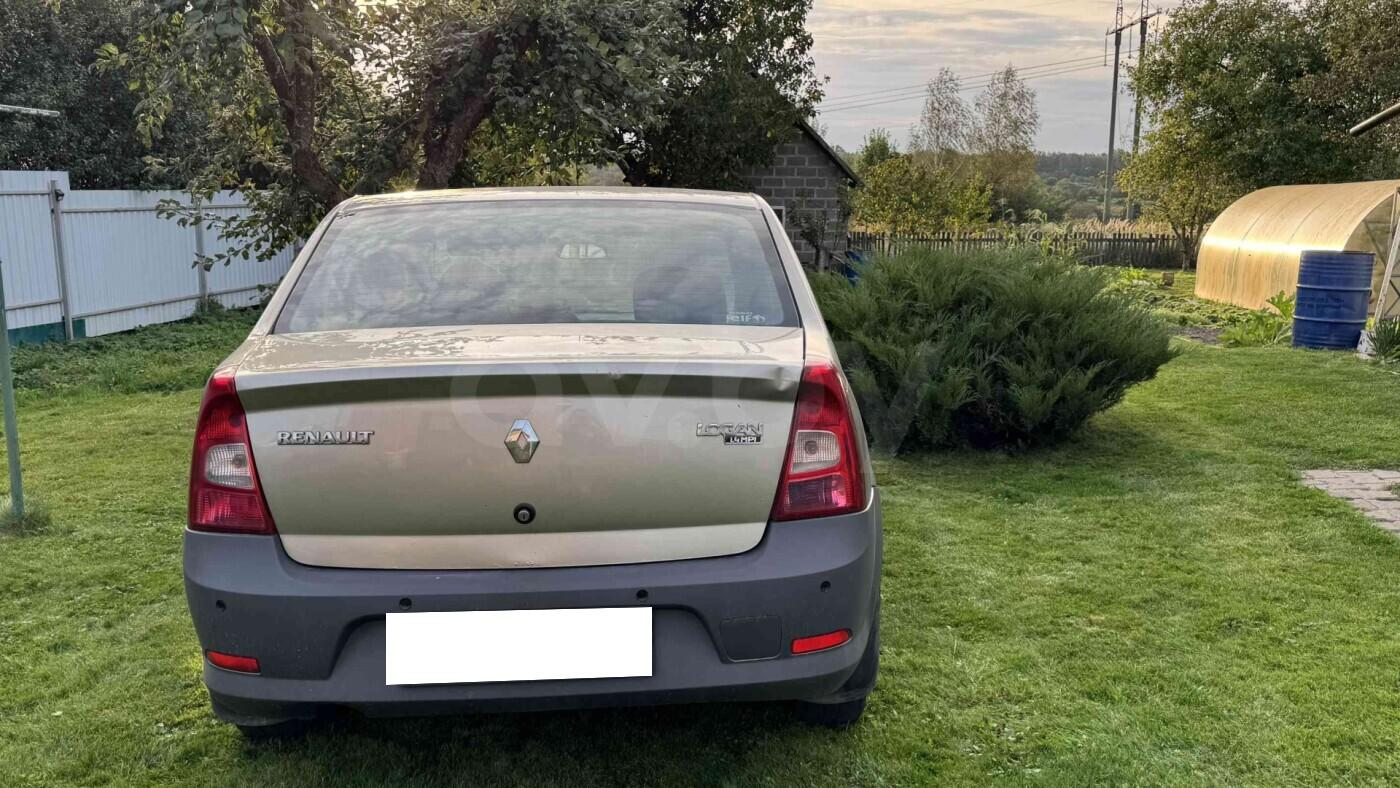Logan_2008-2015: (177, 175, 899, 736)
